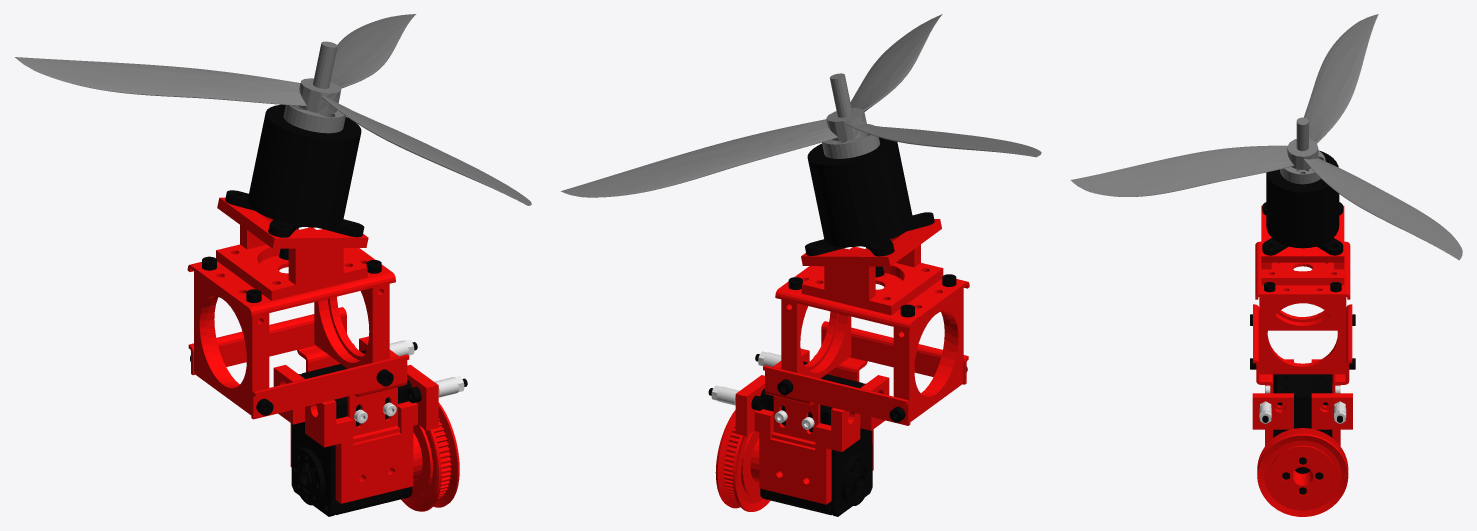
Rendered from link2_gimbal.dae.
The picture shows the model from 3 angles, left to right: view 1: azimuth 30°, elevation 25°; view 2: azimuth 150°, elevation 25°; view 3: azimuth 270°, elevation 25°; orthographic projection. The views are drawn at different scales.
Visible parts, largest first — view 1: link_2_gimbal - gimbal_rotation_base-1 gimbal_servo_with_ho. (×9), link_2_gimbal - tmotor_at2814_with_9inch_prop-1 9inch_prop-1, link_2_gimbal - tmotor_at2814_with_9inch_prop-1 t_motor_at28, link_2_gimbal - gimbal_rotation_base-1 gimbal_roll_holder_PL (×2), link_2_gimbal - motor_mount_link2-1, link_2_gimbal - gimbal_rotation_base-1 gimbal_upper_plate-1, link_2_gimbal - tmotor_at2814_with_9inch_prop-1 t_motor_at2., link_2_gimbal - tmotor_at2814_with_9inch_prop-1 t_motor_at2; view 2: link_2_gimbal - gimbal_rotation_base-1 gimbal_servo_with_ho. (×9), link_2_gimbal - tmotor_at2814_with_9inch_prop-1 9inch_prop-1, link_2_gimbal - tmotor_at2814_with_9inch_prop-1 t_motor_at28, link_2_gimbal - gimbal_rotation_base-1 gimbal_roll_holder_PL (×2), link_2_gimbal - motor_mount_link2-1, link_2_gimbal - gimbal_rotation_base-1 gimbal_upper_plate-1, link_2_gimbal - tmotor_at2814_with_9inch_prop-1 t_motor_at2., link_2_gimbal - tmotor_at2814_with_9inch_prop-1 t_motor_at2; view 3: link_2_gimbal - tmotor_at2814_with_9inch_prop-1 9inch_prop-1, link_2_gimbal - gimbal_rotation_base-1 gimbal_servo_with_ho. (×7), link_2_gimbal - tmotor_at2814_with_9inch_prop-1 t_motor_at28, link_2_gimbal - gimbal_rotation_base-1 gimbal_roll_holder_PL (×2), link_2_gimbal - motor_mount_link2-1, link_2_gimbal - gimbal_rotation_base-1 gimbal_upper_plate-1, link_2_gimbal - tmotor_at2814_with_9inch_prop-1 t_motor_at2., link_2_gimbal - tmotor_at2814_with_9inch_prop-1 t_motor_at2.
Part boxes in pixels (x1,y1,x2,y2): link_2_gimbal - gimbal_rotation_base-1 gimbal_servo_with_ho. (×9): [188, 307, 459, 514]; link_2_gimbal - tmotor_at2814_with_9inch_prop-1 9inch_prop-1: [15, 14, 531, 205]; link_2_gimbal - tmotor_at2814_with_9inch_prop-1 t_motor_at28: [247, 104, 361, 260]; link_2_gimbal - gimbal_rotation_base-1 gimbal_roll_holder_PL (×2): [194, 272, 389, 414]; link_2_gimbal - motor_mount_link2-1: [216, 197, 368, 300]; link_2_gimbal - gimbal_rotation_base-1 gimbal_upper_plate-1: [187, 248, 395, 317]; link_2_gimbal - tmotor_at2814_with_9inch_prop-1 t_motor_at2.: [283, 41, 345, 133]; link_2_gimbal - tmotor_at2814_with_9inch_prop-1 t_motor_at2: [225, 190, 364, 237]; link_2_gimbal - gimbal_rotation_base-1 gimbal_servo_with_ho. (×9): [715, 321, 968, 515]; link_2_gimbal - tmotor_at2814_with_9inch_prop-1 9inch_prop-1: [561, 14, 1041, 197]; link_2_gimbal - tmotor_at2814_with_9inch_prop-1 t_motor_at28: [807, 137, 913, 277]; link_2_gimbal - gimbal_rotation_base-1 gimbal_roll_holder_PL (×2): [781, 288, 963, 421]; link_2_gimbal - motor_mount_link2-1: [801, 219, 943, 315]; link_2_gimbal - gimbal_rotation_base-1 gimbal_upper_plate-1: [775, 266, 969, 330]; link_2_gimbal - tmotor_at2814_with_9inch_prop-1 t_motor_at2.: [822, 73, 879, 158]; link_2_gimbal - tmotor_at2814_with_9inch_prop-1 t_motor_at2: [805, 212, 934, 256]; link_2_gimbal - tmotor_at2814_with_9inch_prop-1 9inch_prop-1: [1070, 14, 1462, 260]; link_2_gimbal - gimbal_rotation_base-1 gimbal_servo_with_ho. (×7): [1252, 304, 1352, 516]; link_2_gimbal - tmotor_at2814_with_9inch_prop-1 t_motor_at28: [1266, 150, 1339, 248]; link_2_gimbal - gimbal_rotation_base-1 gimbal_roll_holder_PL (×2): [1259, 297, 1346, 374]; link_2_gimbal - motor_mount_link2-1: [1261, 205, 1344, 285]; link_2_gimbal - gimbal_rotation_base-1 gimbal_upper_plate-1: [1255, 241, 1350, 299]; link_2_gimbal - tmotor_at2814_with_9inch_prop-1 t_motor_at2.: [1280, 117, 1325, 184]; link_2_gimbal - tmotor_at2814_with_9inch_prop-1 t_motor_at2: [1262, 202, 1343, 255].
Bounding box in the file's own units: 190 × 190 × 198.
